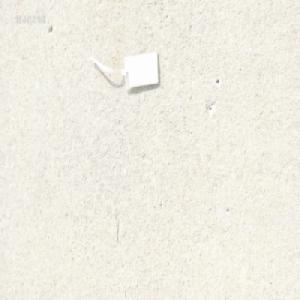LuggageTag: (89, 47, 161, 93)
